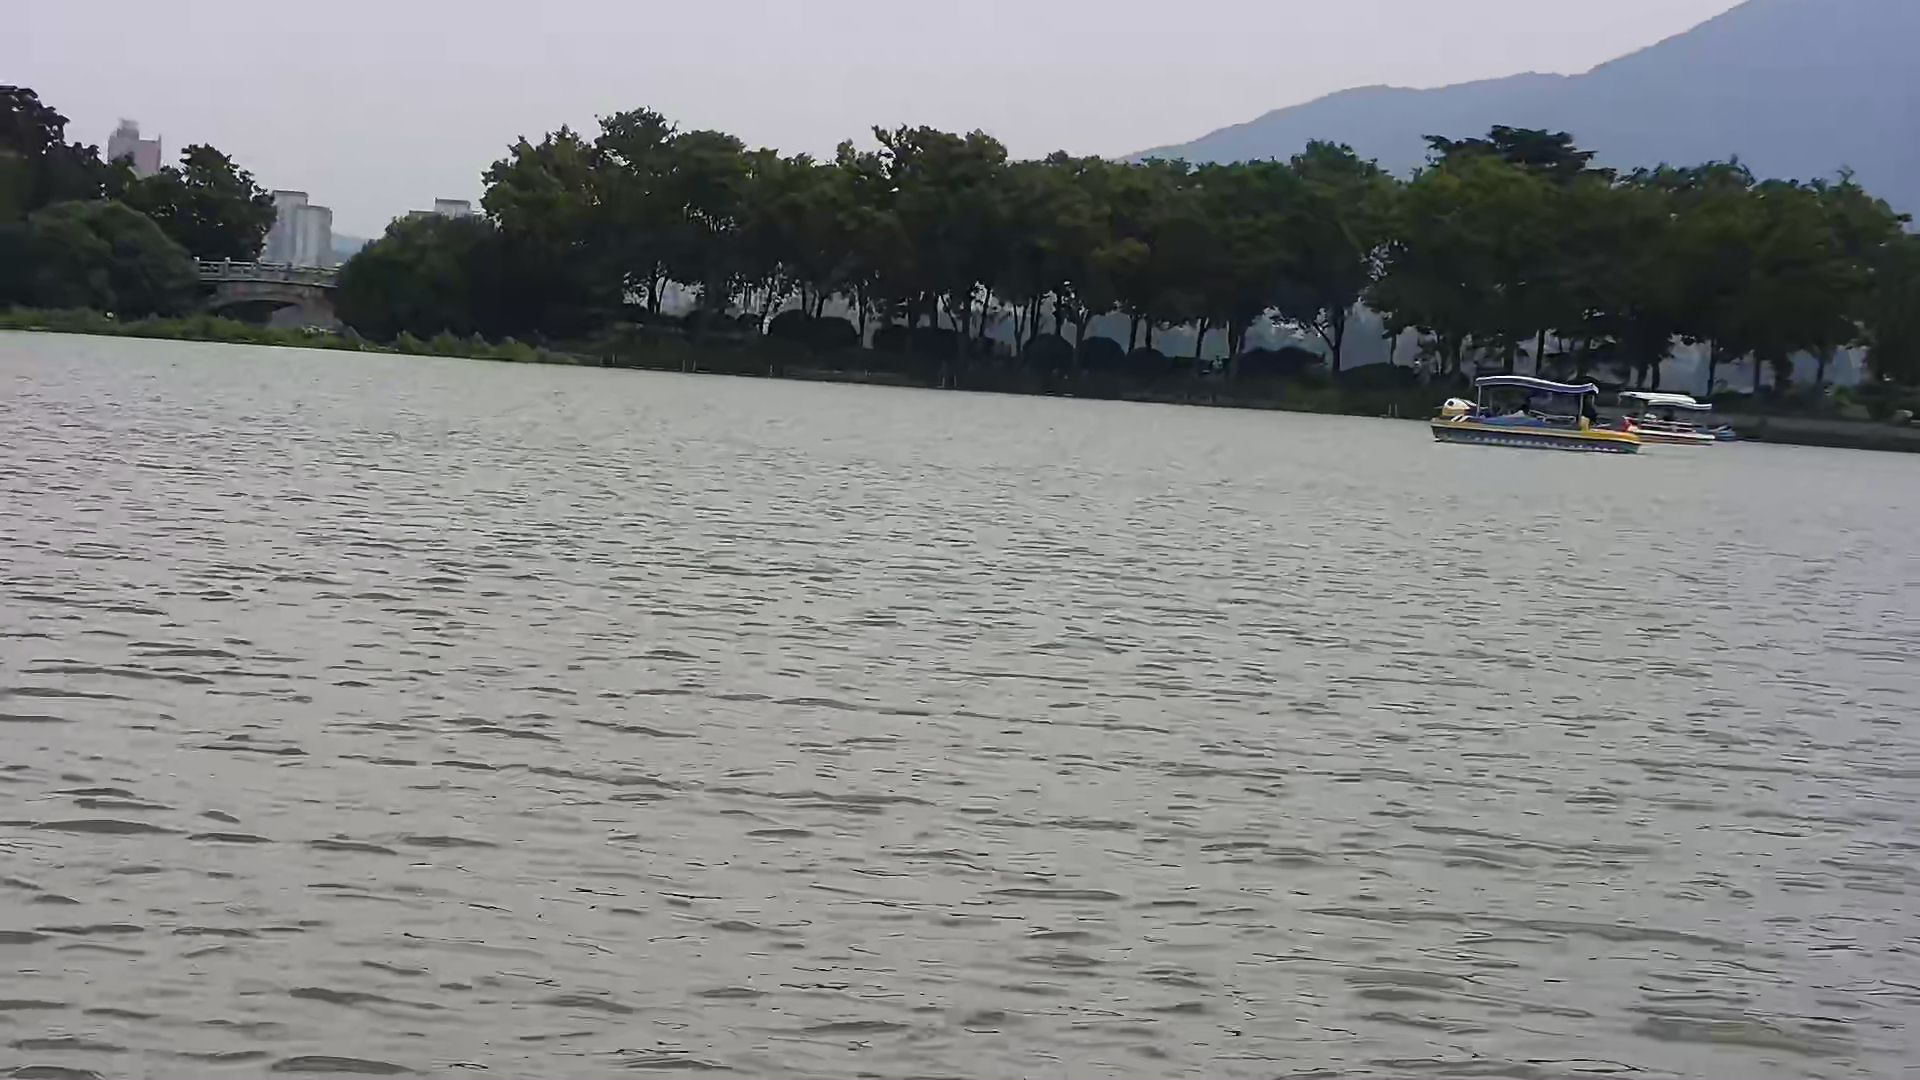boat: (1416, 367, 1635, 450), (1600, 388, 1731, 450)
bridge: (185, 247, 349, 335)
